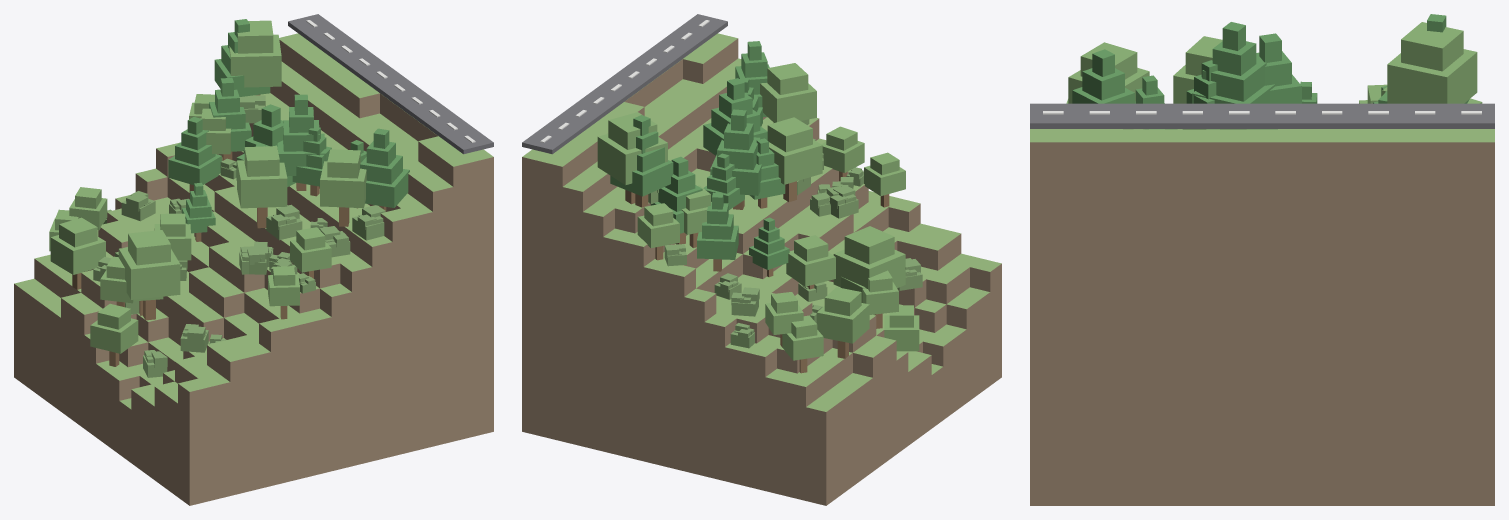
Rendered from block_9_riparian_100.glb.
3 renders of one model, left to right at view 1: azimuth 30°, elevation 25°; view 2: azimuth 150°, elevation 25°; view 3: azimuth 270°, elevation 25°, orthographic. The views are drawn at different scales.
Visible parts, largest first — view 1: Patch_LowerLeft_b09_RP, Roads_LowerLeft_b09_RP, RP_Veg_09_005, RP_Veg_09_004, RP_Veg_09_033, RP_Veg_09_031, RP_Veg_09_001, RP_Veg_09_032, RP_Veg_09_043, RP_Veg_09_037, RP_Veg_09_003, RP_Veg_09_040 (+17 smaller); view 2: Patch_LowerLeft_b09_RP, Roads_LowerLeft_b09_RP, RP_Veg_09_005, RP_Veg_09_004, RP_Veg_09_033, RP_Veg_09_001, RP_Veg_09_032, RP_Veg_09_009, RP_Veg_09_046, RP_Veg_09_043, RP_Veg_09_037, RP_Veg_09_051 (+15 smaller); view 3: Patch_LowerLeft_b09_RP, Roads_LowerLeft_b09_RP, RP_Veg_09_033, RP_Veg_09_037, RP_Veg_09_031, RP_Veg_09_009, RP_Veg_09_001, RP_Veg_09_004, RP_Veg_09_038, RoadLines_LowerLeft_b09_RP, RP_Veg_09_048.
Boxes of the visible parts, bbox=[...] form: Patch_LowerLeft_b09_RP: bbox=[14, 33, 493, 505]; Roads_LowerLeft_b09_RP: bbox=[288, 14, 493, 154]; RP_Veg_09_005: bbox=[118, 230, 180, 320]; RP_Veg_09_004: bbox=[237, 146, 287, 228]; RP_Veg_09_033: bbox=[229, 20, 281, 95]; RP_Veg_09_031: bbox=[360, 128, 409, 211]; RP_Veg_09_001: bbox=[320, 149, 366, 226]; RP_Veg_09_032: bbox=[50, 217, 105, 289]; RP_Veg_09_043: bbox=[168, 117, 221, 194]; RP_Veg_09_037: bbox=[277, 94, 325, 190]; RP_Veg_09_003: bbox=[90, 303, 138, 366]; RP_Veg_09_040: bbox=[209, 78, 251, 160]; Patch_LowerLeft_b09_RP: bbox=[522, 33, 1001, 505]; Roads_LowerLeft_b09_RP: bbox=[522, 14, 727, 154]; RP_Veg_09_005: bbox=[833, 226, 905, 288]; RP_Veg_09_004: bbox=[767, 117, 822, 201]; RP_Veg_09_033: bbox=[597, 112, 667, 204]; RP_Veg_09_001: bbox=[760, 63, 816, 122]; RP_Veg_09_032: bbox=[816, 287, 869, 358]; RP_Veg_09_009: bbox=[710, 109, 761, 209]; RP_Veg_09_046: bbox=[610, 115, 673, 207]; RP_Veg_09_043: bbox=[697, 192, 738, 271]; RP_Veg_09_037: bbox=[703, 78, 767, 155]; RP_Veg_09_051: bbox=[786, 235, 835, 289]; Patch_LowerLeft_b09_RP: bbox=[1030, 129, 1494, 505]; Roads_LowerLeft_b09_RP: bbox=[1030, 103, 1494, 128]; RP_Veg_09_033: bbox=[1387, 22, 1477, 103]; RP_Veg_09_037: bbox=[1192, 22, 1275, 129]; RP_Veg_09_031: bbox=[1072, 49, 1134, 103]; RP_Veg_09_009: bbox=[1255, 33, 1301, 129]; RP_Veg_09_001: bbox=[1068, 42, 1149, 103]; RP_Veg_09_004: bbox=[1173, 36, 1222, 103]; RP_Veg_09_038: bbox=[1183, 60, 1219, 129]; RoadLines_LowerLeft_b09_RP: bbox=[1043, 111, 1481, 114]; RP_Veg_09_048: bbox=[1135, 75, 1177, 129].
Bounding box in the file's own units: 9.76 × 9.58 × 9.5.
